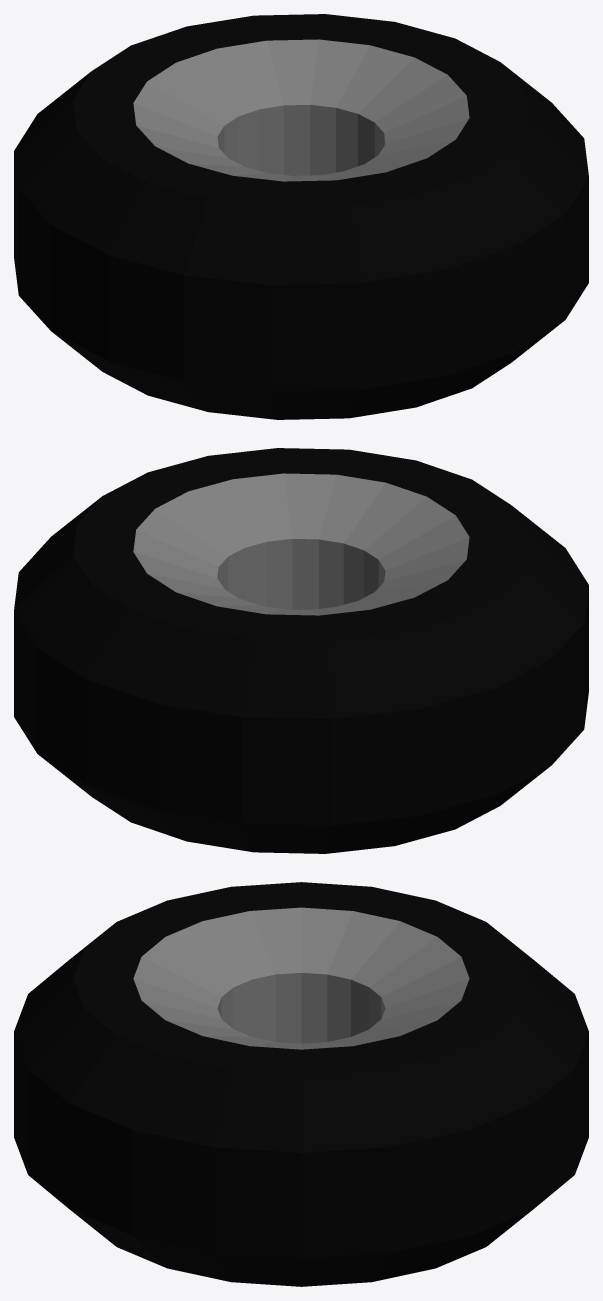
Rendered from tire.fbx.
3 views of the same model, one above another, from view 1: azimuth 30°, elevation 25°; view 2: azimuth 150°, elevation 25°; view 3: azimuth 270°, elevation 25° (orthographic).
Parts seen in each view (by area): view 1: pPipe1; view 2: pPipe1; view 3: pPipe1.
Part boxes in pixels (x1=…): pPipe1: x1=14, y1=14, x2=588, y2=419; pPipe1: x1=14, y1=448, x2=588, y2=853; pPipe1: x1=14, y1=882, x2=588, y2=1286.
Size of the model in its own units: 3.42 by 1.39 by 3.42.
1 material, 1 textured.
